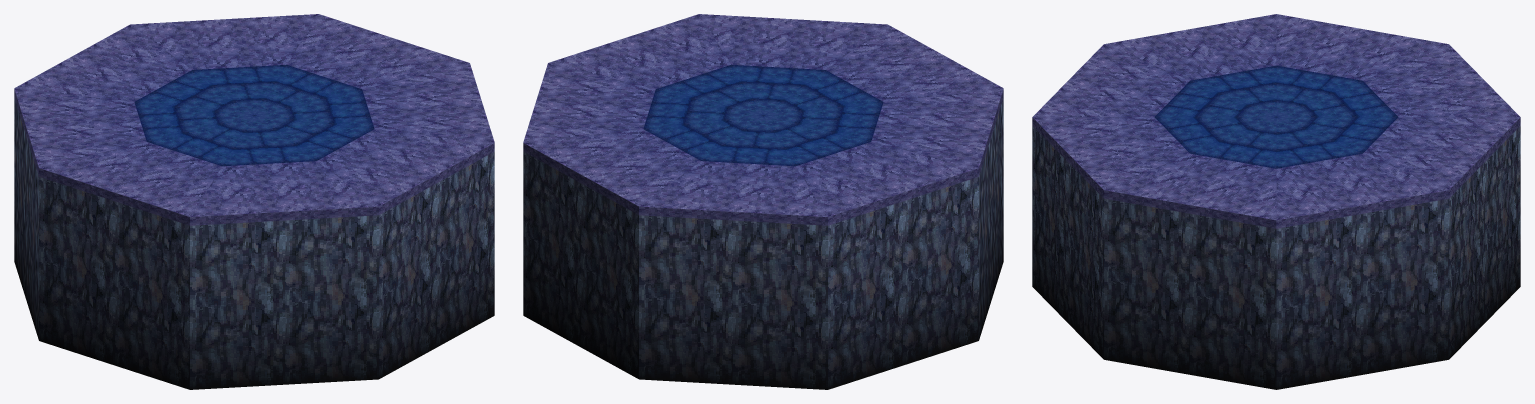
The model's file is koopa1_boss_all.glb.
3 renders of one model, left to right at view 1: azimuth 30°, elevation 25°; view 2: azimuth 150°, elevation 25°; view 3: azimuth 270°, elevation 25°, orthographic.
Parts seen in each view (by area): view 1: koopa1_boss_all; view 2: koopa1_boss_all; view 3: koopa1_boss_all.
Boxes of the visible parts, bbox=[...] form: koopa1_boss_all: bbox=[14, 14, 494, 389]; koopa1_boss_all: bbox=[523, 14, 1003, 389]; koopa1_boss_all: bbox=[1032, 14, 1520, 389].
Size of the model in its own units: 6 by 2.3 by 6.
3 materials, 3 textured.
